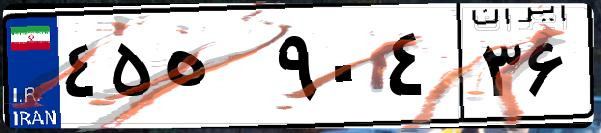0: (330, 28, 385, 110)
3: (475, 38, 525, 113)
4: (385, 28, 445, 110), (57, 26, 110, 100)
5: (110, 28, 158, 98)
6: (525, 38, 570, 115)
9: (270, 28, 330, 110)
ه: (158, 20, 270, 120)
